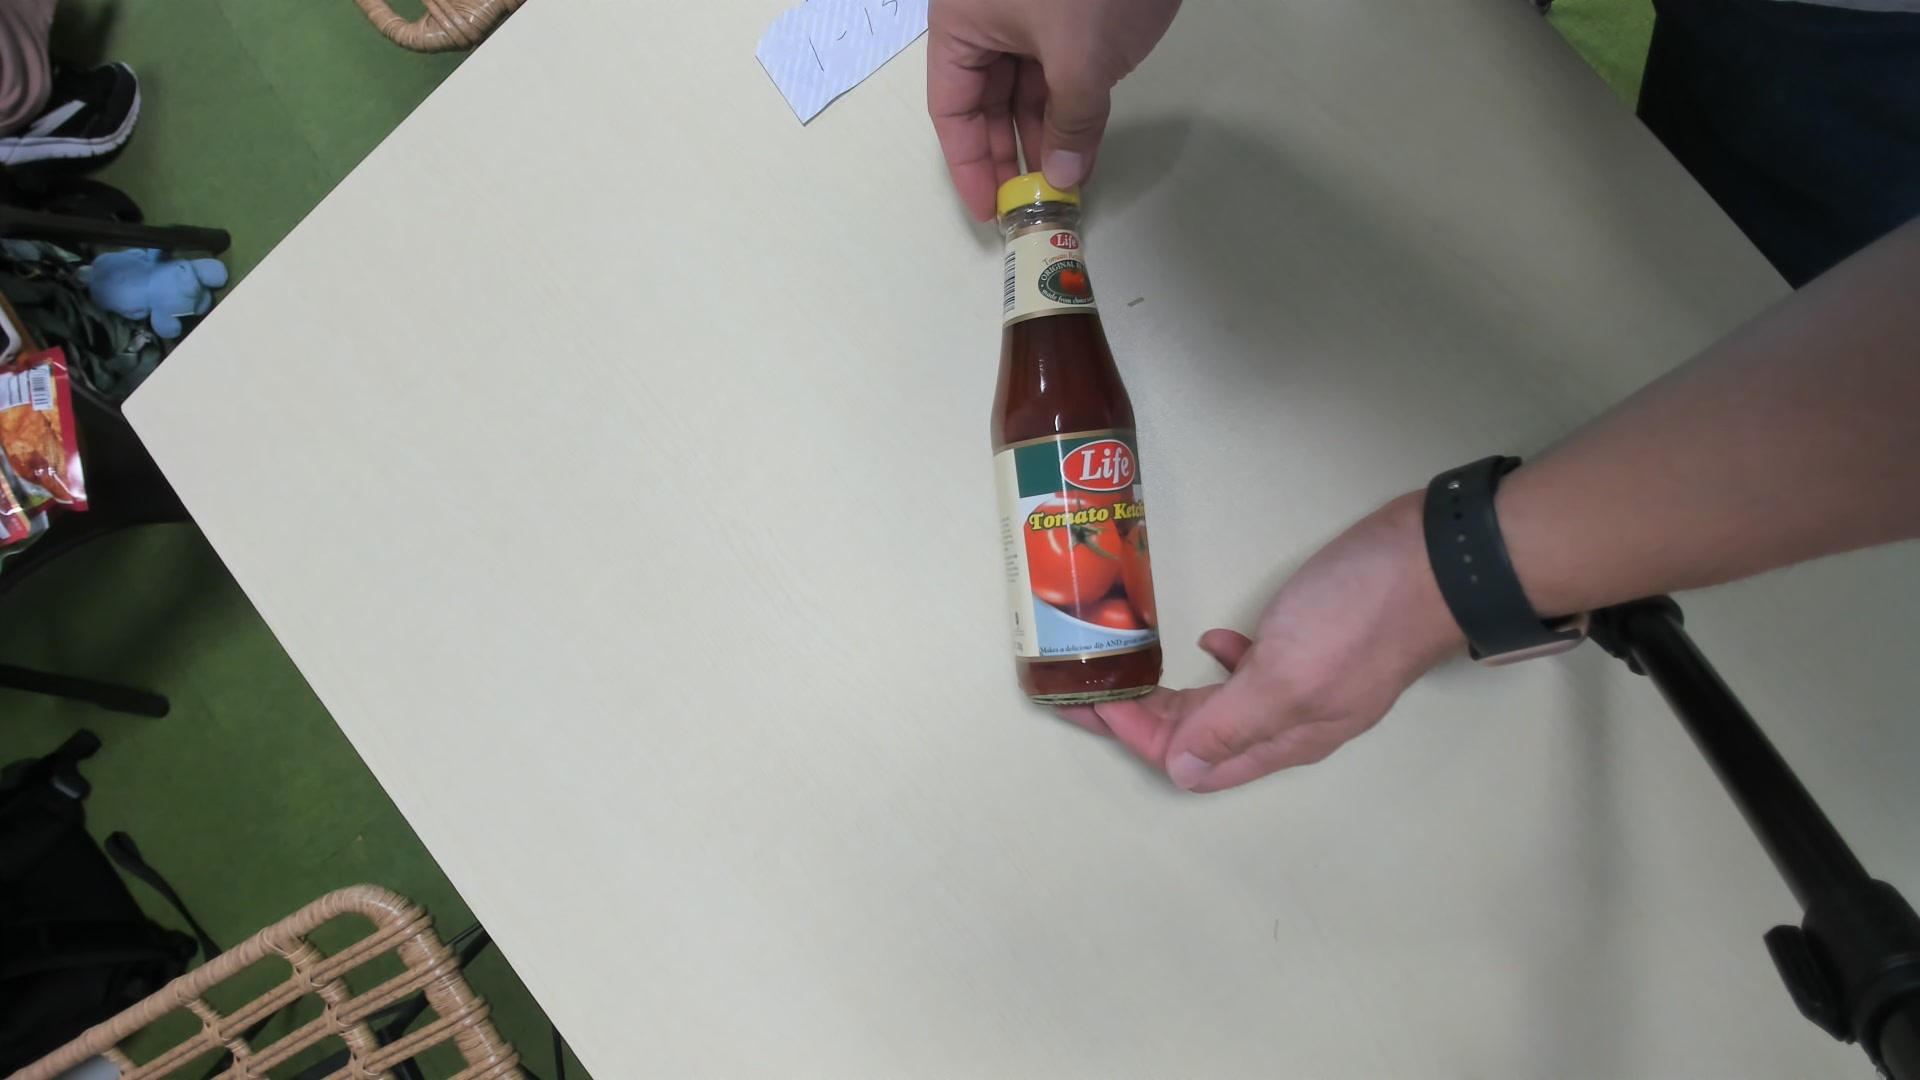KetchupChillSauce_300-399g_Halal_NonHealthy: (984, 166, 1174, 705)
